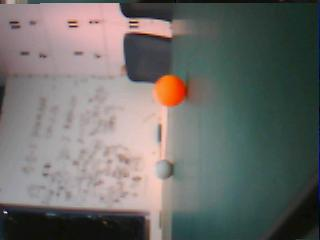oball: (152, 75, 185, 108)
